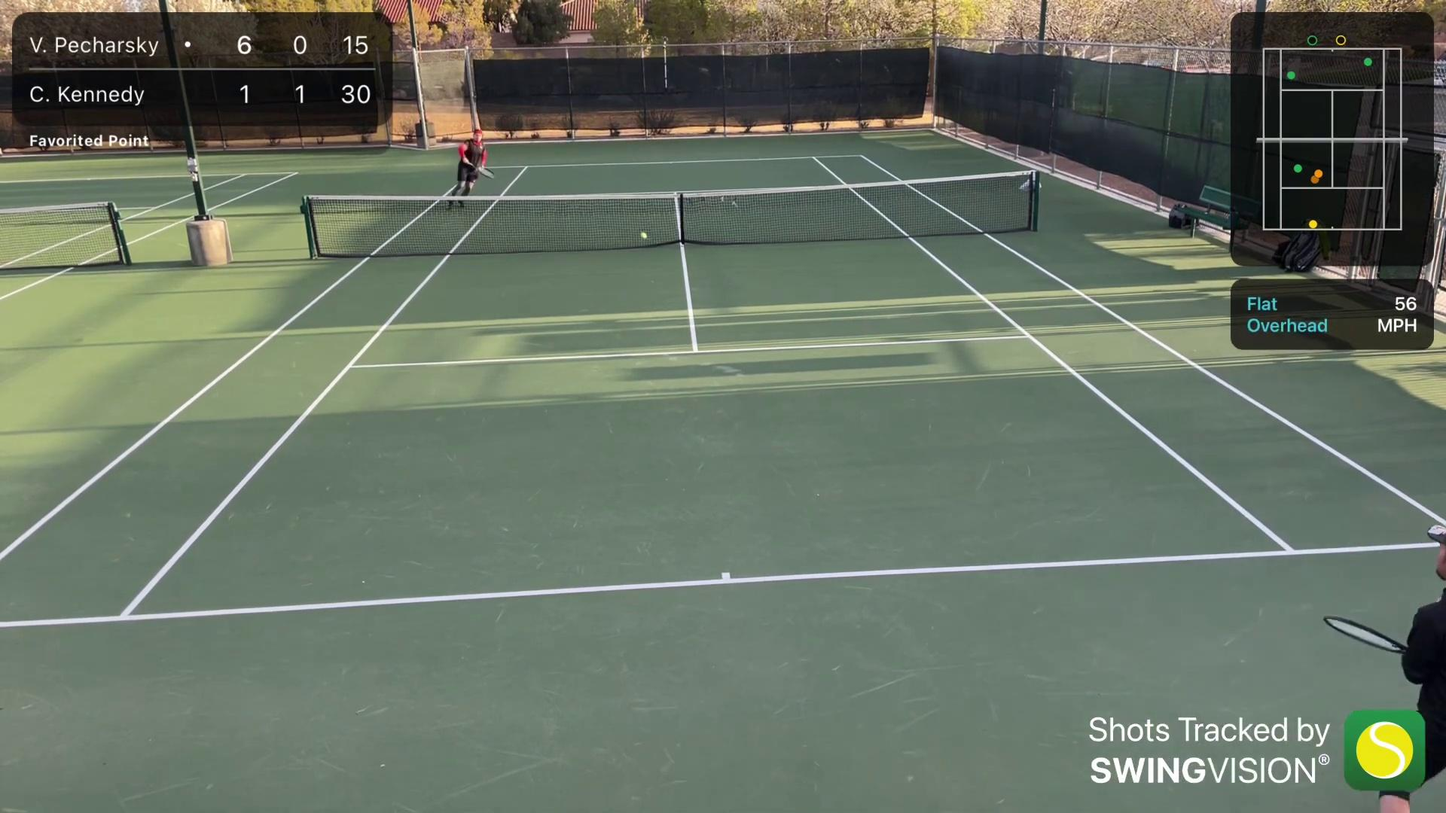ball: (638, 230, 648, 241)
